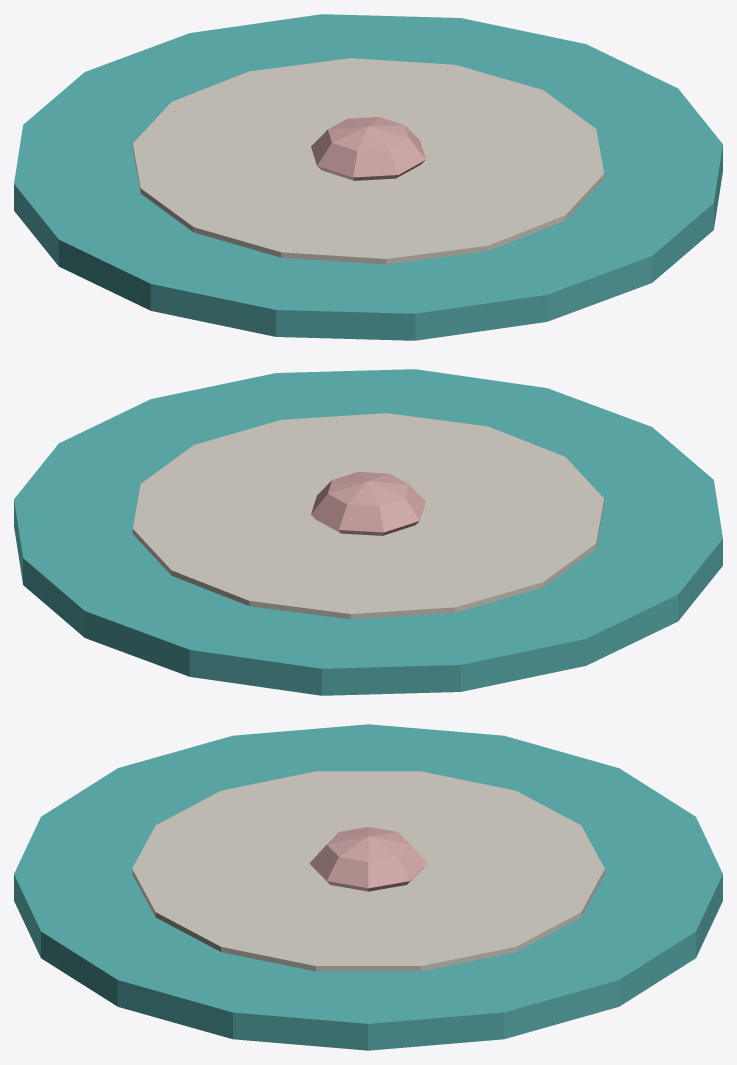
File: pets_tapete.glb
3 views of the same model, one above another, from view 1: azimuth 30°, elevation 25°; view 2: azimuth 150°, elevation 25°; view 3: azimuth 270°, elevation 25° (orthographic).
Parts seen in each view (by area): view 1: PETS_TAPETE_v01; view 2: PETS_TAPETE_v01; view 3: PETS_TAPETE_v01.
Part boxes in pixels (x1,y1,x2,y2): PETS_TAPETE_v01: (14,14,722,340); PETS_TAPETE_v01: (14,369,722,695); PETS_TAPETE_v01: (14,724,722,1050).
Size of the model in its own units: 0.6 by 0.06 by 0.6.
